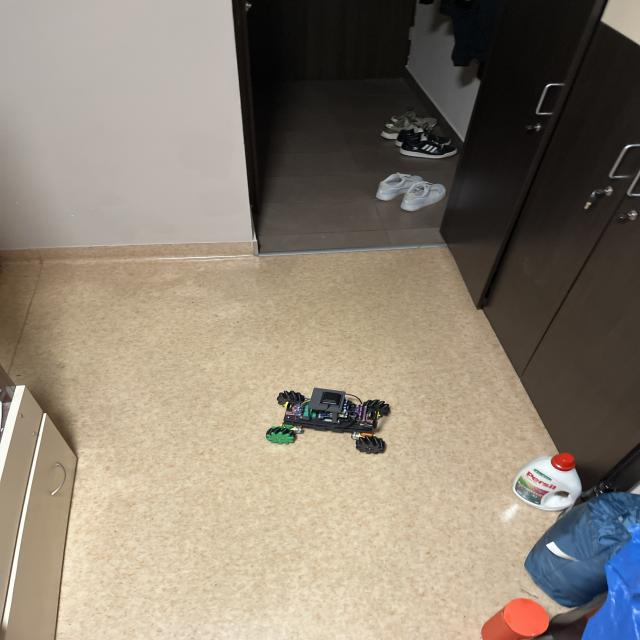robot: (266, 388, 390, 453)
